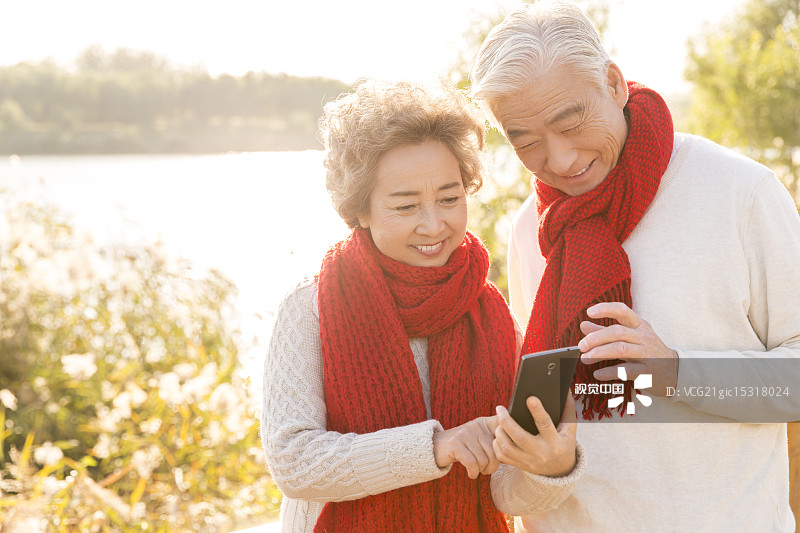no-phone: (573, 301, 682, 398)
reading: (434, 340, 591, 488)
